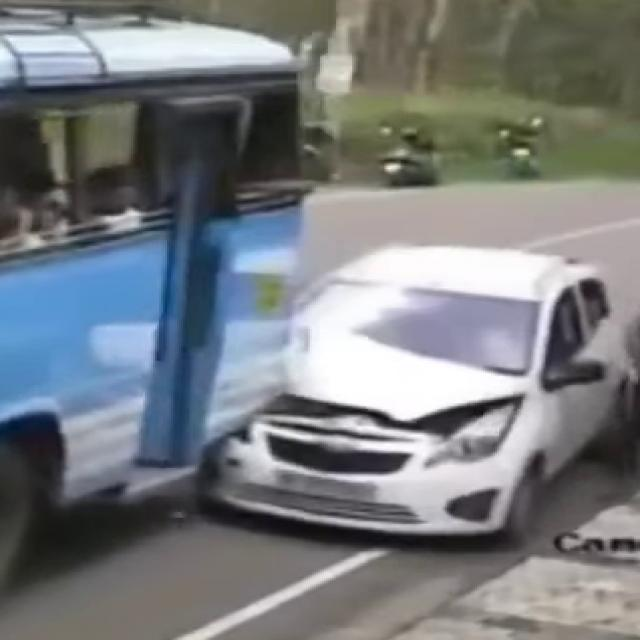accident: (173, 206, 640, 589)
